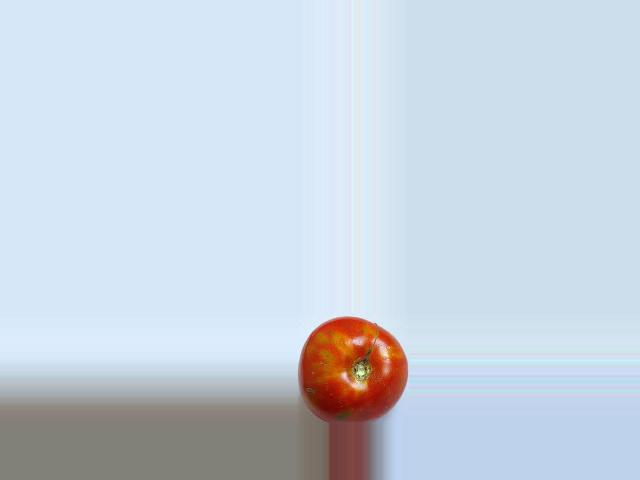tomato: (298, 317, 408, 423)
